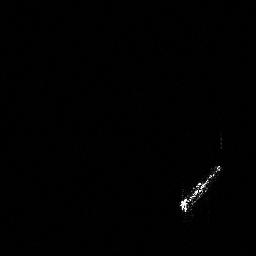ship: (173, 162, 225, 216)
